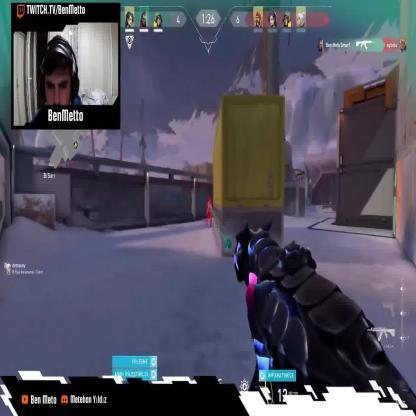enemy: (206, 195, 212, 228)
enemy_head: (208, 196, 212, 203)
